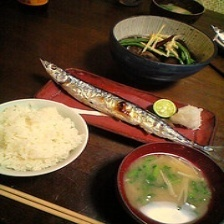rice: (1, 102, 87, 171)
